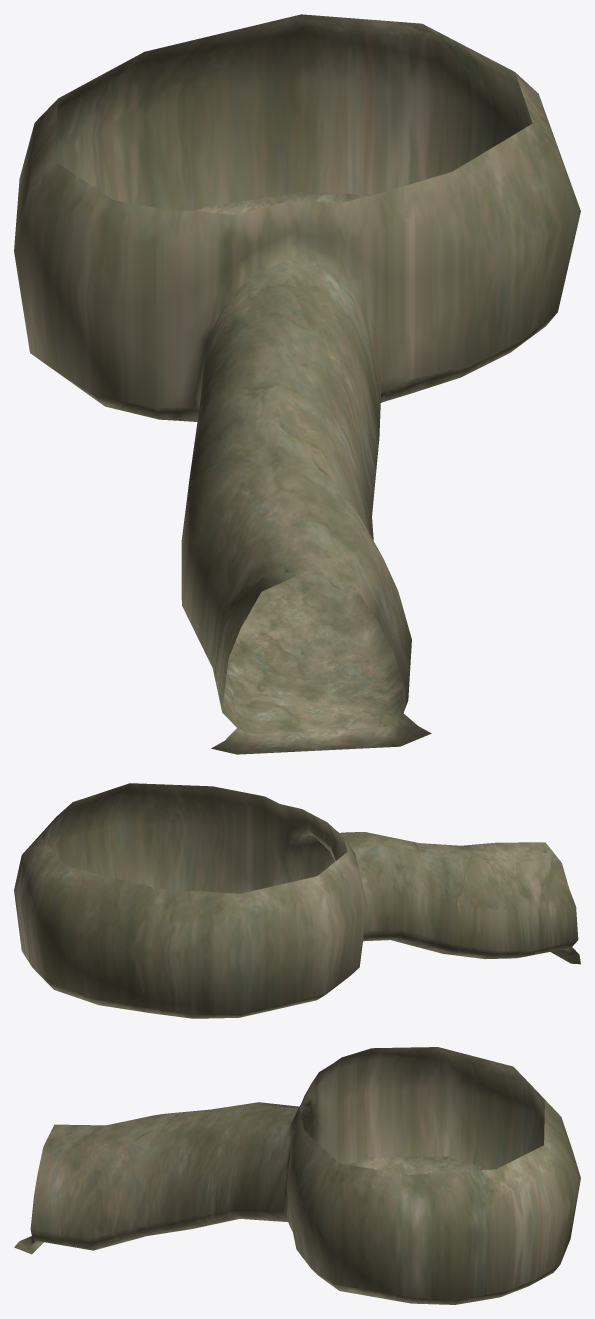
The model's file is OVERHILL_A_01_OBJECT22.fbx.
3 renders of one model, top to bottom at view 1: azimuth 30°, elevation 25°; view 2: azimuth 150°, elevation 25°; view 3: azimuth 270°, elevation 25°, orthographic. The views are drawn at different scales.
Parts seen in each view (by area): view 1: OVERHILL_A_01_OBJECT22; view 2: OVERHILL_A_01_OBJECT22; view 3: OVERHILL_A_01_OBJECT22.
Part boxes in pixels (box(x1,y1,x2,y2)): OVERHILL_A_01_OBJECT22: box(14, 14, 580, 754); OVERHILL_A_01_OBJECT22: box(14, 783, 580, 1018); OVERHILL_A_01_OBJECT22: box(14, 1047, 580, 1304).
Size of the model in its own units: 110755 by 58591 by 144966.
Materials: 1 (1 with a texture image).
